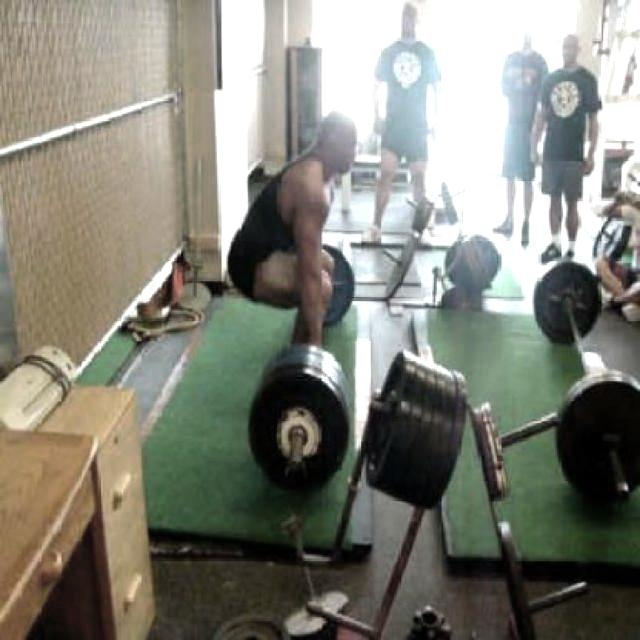barbell: (243, 362, 355, 500), (529, 247, 607, 352)
